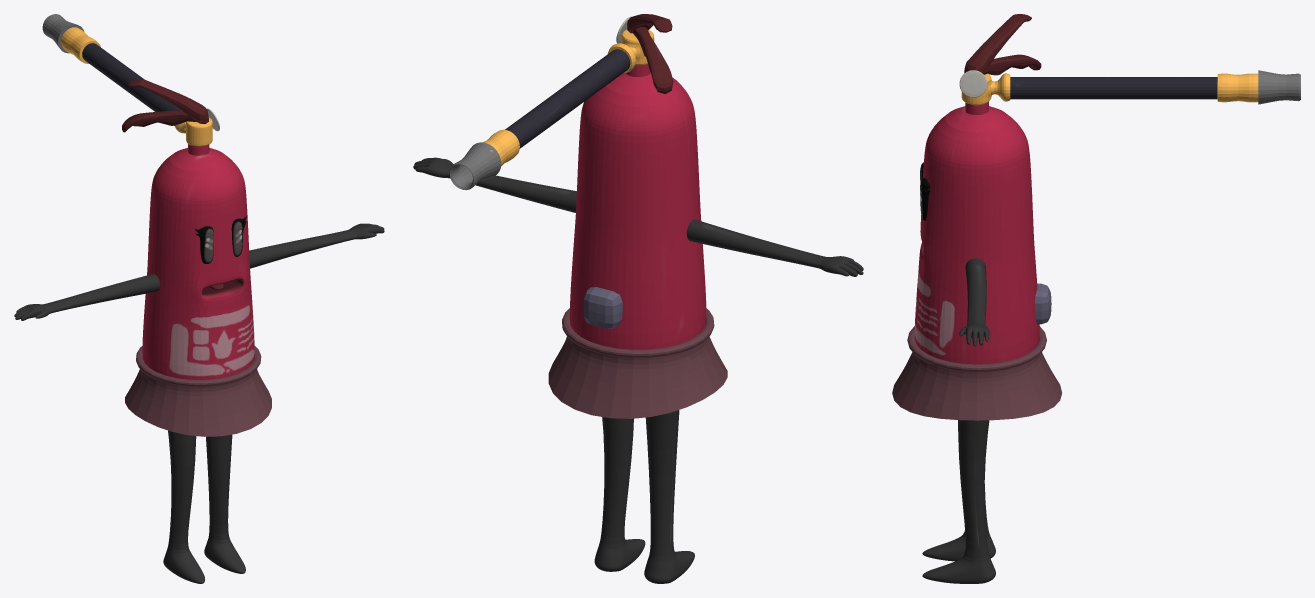
Rendered from extintor.fbx.
3 renders of one model, left to right at view 1: azimuth 30°, elevation 25°; view 2: azimuth 150°, elevation 25°; view 3: azimuth 270°, elevation 25°, orthographic. The views are drawn at different scales.
Parts seen in each view (by area): view 1: cuerpo, falda, piernas, brazos, manguera, manilla 2, ojos, manilla 1, parte donde sale la manguera, parte attras boquilla, boquilla; view 2: cuerpo, falda, piernas, brazos, manguera, boquilla, Cube.001, manilla 1, parte donde sale la manguera, parte attras boquilla, manilla 2; view 3: cuerpo, falda, piernas, manguera, brazos, manilla 2, boquilla, parte attras boquilla, parte donde sale la manguera, manilla 1, manometro, Cube.001.
Boxes of the visible parts, left/top/right/bottom form: cuerpo: left=142, top=144, right=254, bottom=379; falda: left=125, top=346, right=271, bottom=436; piernas: left=163, top=430, right=245, bottom=583; brazos: left=14, top=223, right=384, bottom=320; manguera: left=82, top=43, right=181, bottom=125; manilla 2: left=128, top=79, right=208, bottom=123; ojos: left=194, top=216, right=246, bottom=263; manilla 1: left=122, top=110, right=196, bottom=132; parte donde sale la manguera: left=174, top=110, right=212, bottom=146; parte attras boquilla: left=61, top=27, right=100, bottom=63; boquilla: left=42, top=14, right=84, bottom=53; cuerpo: left=569, top=64, right=706, bottom=349; falda: left=548, top=308, right=727, bottom=418; piernas: left=594, top=410, right=694, bottom=583; brazos: left=413, top=157, right=863, bottom=276; manguera: left=505, top=49, right=630, bottom=148; boquilla: left=449, top=142, right=501, bottom=190; Cube.001: left=583, top=287, right=622, bottom=328; manilla 1: left=633, top=27, right=673, bottom=93; parte donde sale la manguera: left=607, top=29, right=654, bottom=72; parte attras boquilla: left=482, top=129, right=519, bottom=166; manilla 2: left=627, top=14, right=672, bottom=33; cuerpo: left=914, top=102, right=1039, bottom=364; falda: left=892, top=326, right=1061, bottom=420; piernas: left=922, top=420, right=995, bottom=583; manguera: left=1010, top=77, right=1217, bottom=99; brazos: left=959, top=258, right=989, bottom=346; manilla 2: left=964, top=14, right=1031, bottom=73; boquilla: left=1258, top=70, right=1300, bottom=104; parte attras boquilla: left=1217, top=73, right=1258, bottom=102; parte donde sale la manguera: left=961, top=73, right=1010, bottom=105; manilla 1: left=983, top=54, right=1041, bottom=75; manometro: left=959, top=70, right=987, bottom=97; Cube.001: left=1035, top=283, right=1051, bottom=324.
Size of the model in its own units: 1409 by 1745 by 1216.
Materials: 1 (1 with a texture image).
